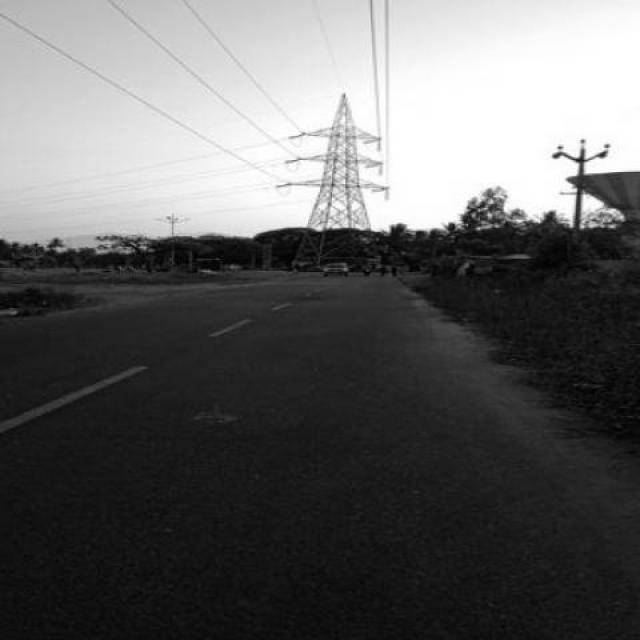Unmarked Bump: (294, 272, 406, 275)
